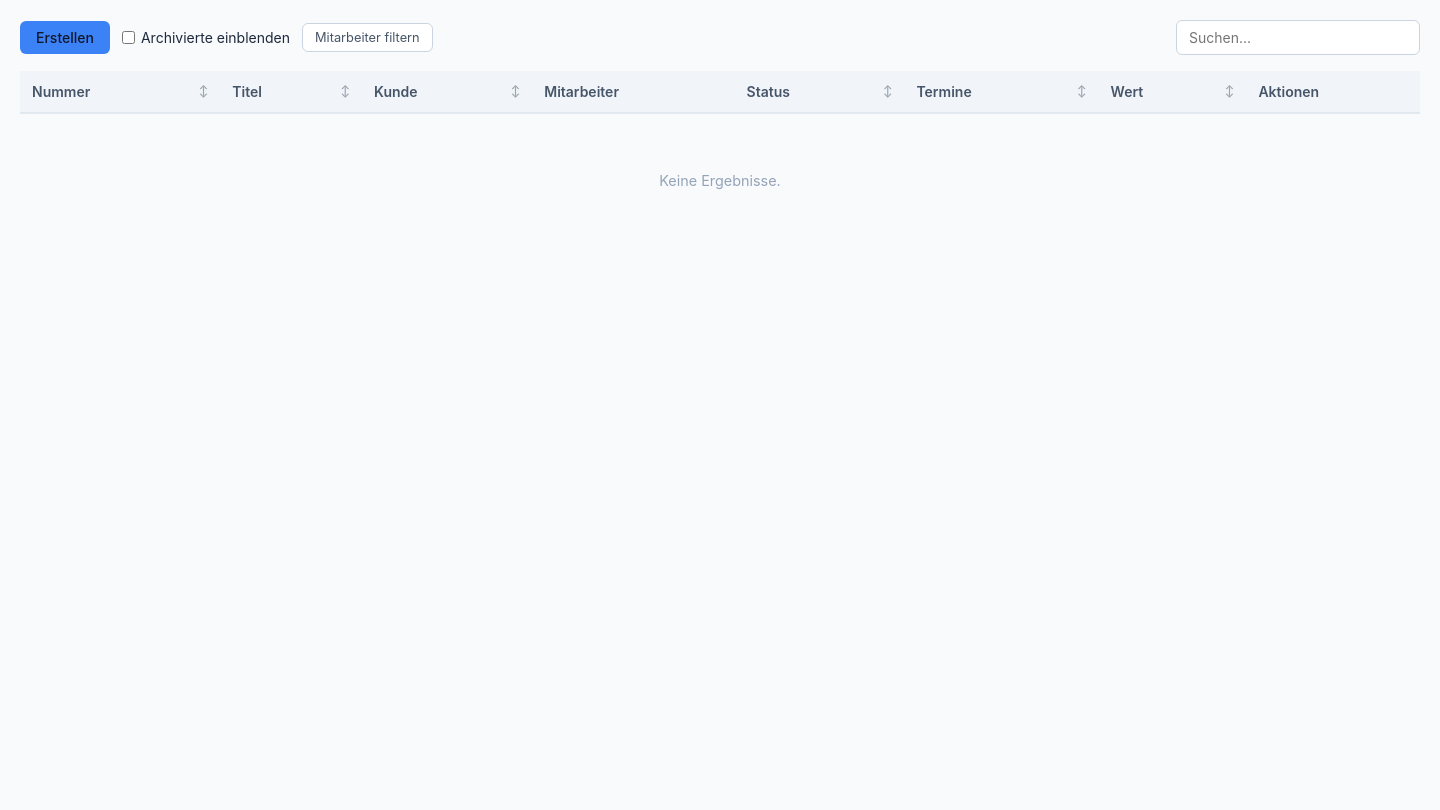
Test case: ProjectManagement — number preflight › clears the indicator when the number changes after blur
Step 1. Click the button with test id "project-create-button" → (65, 38), box [20, 21, 110, 54]
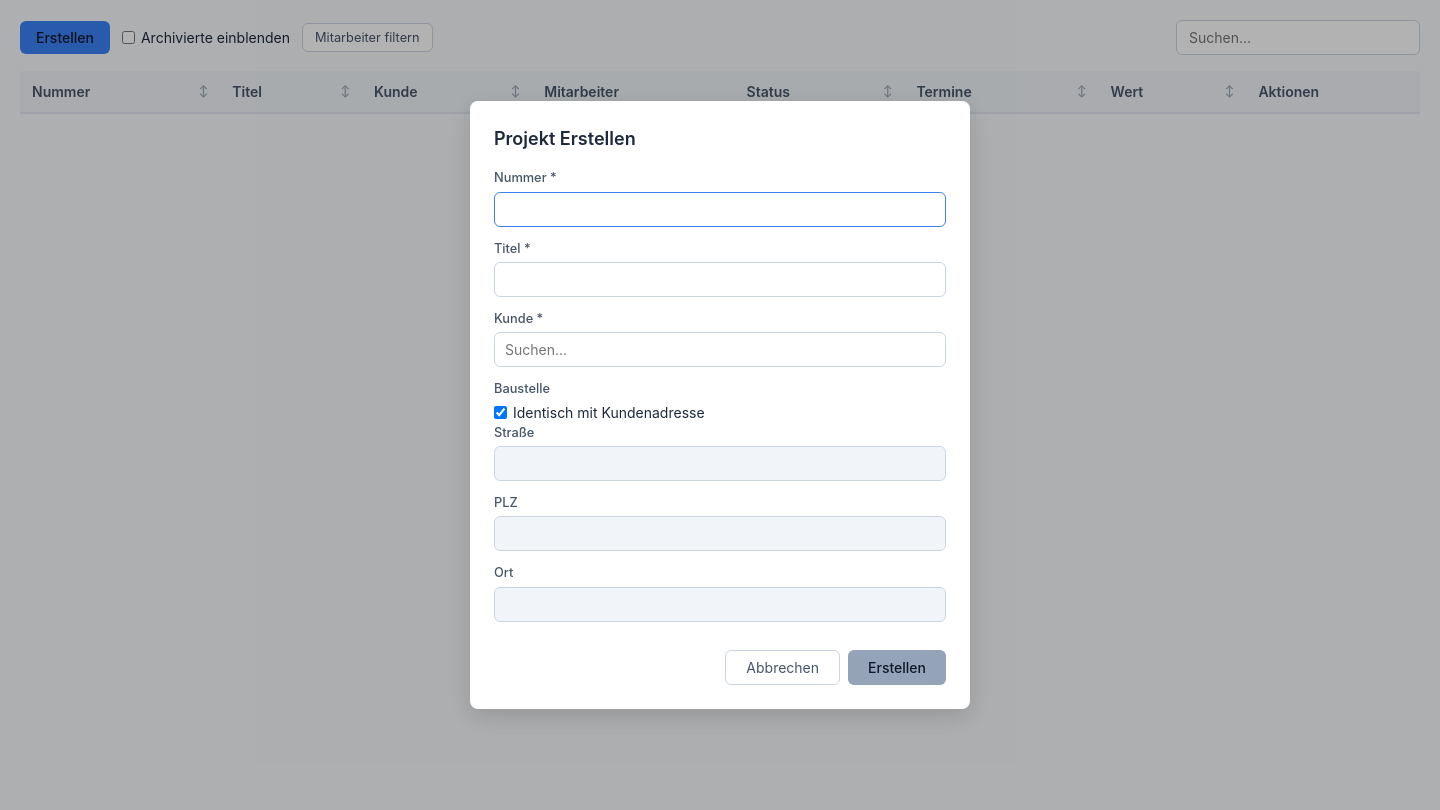
Step 2. Type "P-99" into the field with test id "project-number-input" → (720, 209), box [494, 192, 946, 226]
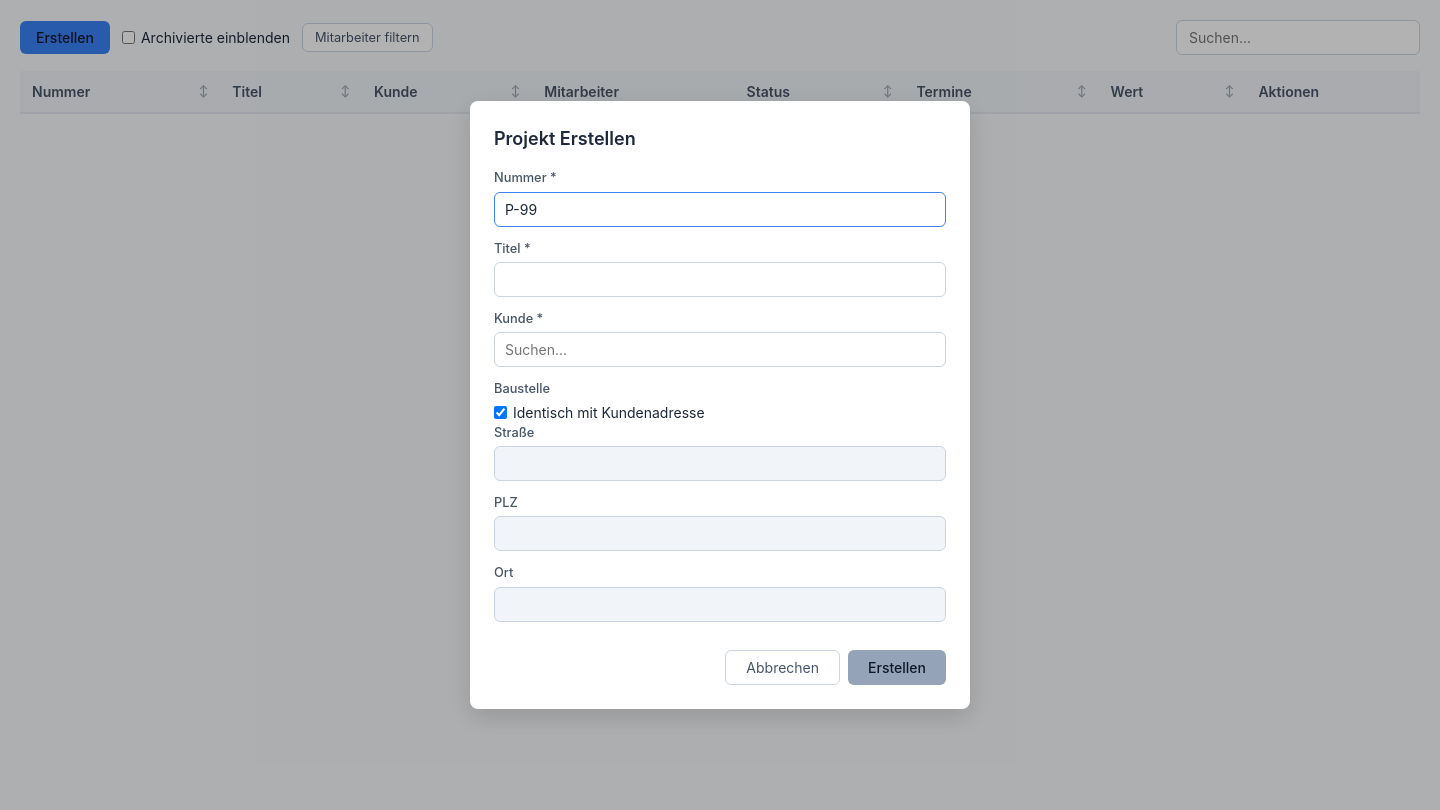
Step 3. Leave the field with test id "project-number-input", box [494, 192, 946, 226]
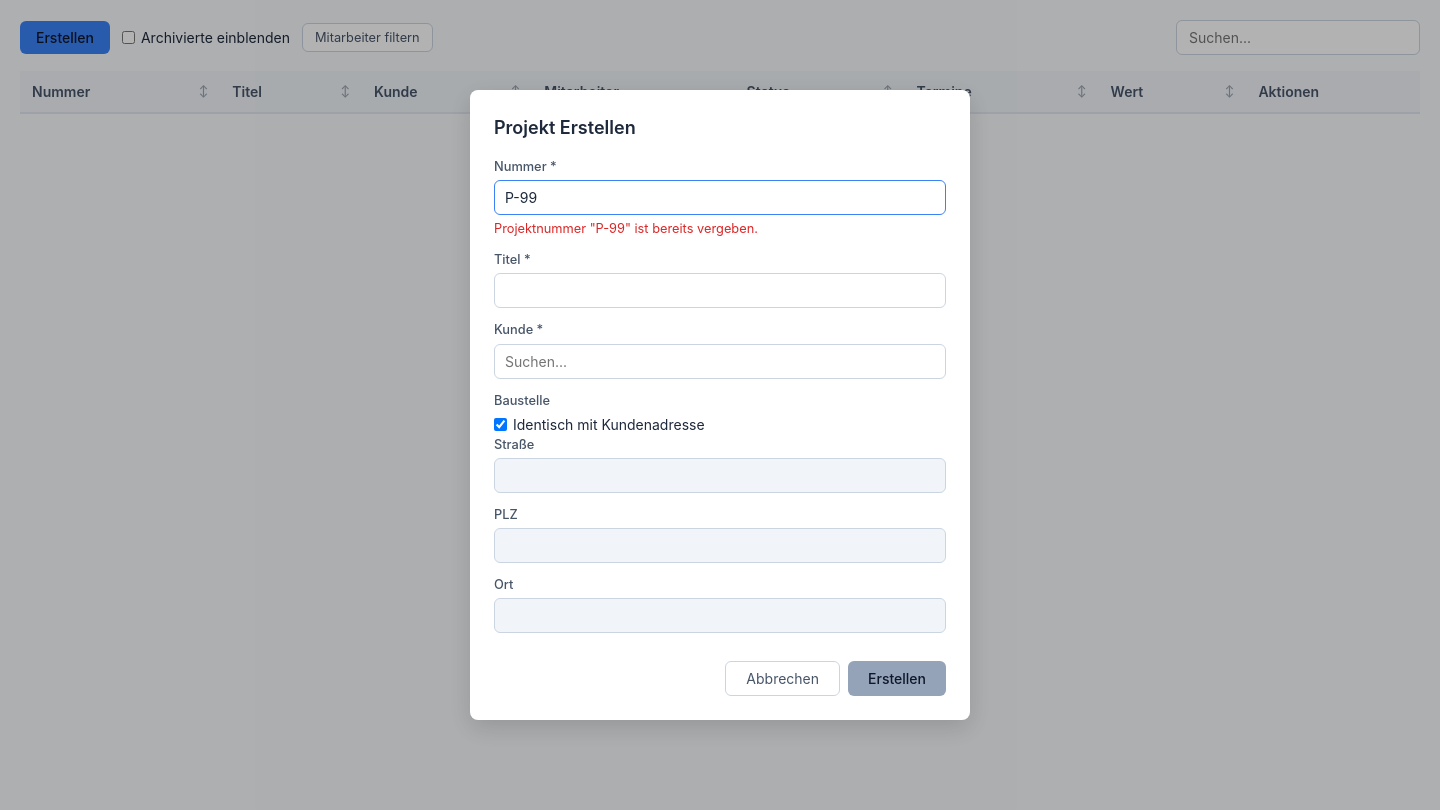
Expected: the message "Projektnummer \"P-99\" ist bereits vergeben." is shown, [494, 221, 758, 236]
// Any edit after blur clears the verdict until next blur.
Step 4. Type "X" into the field with test id "project-number-input" → (720, 197), box [494, 180, 946, 215]
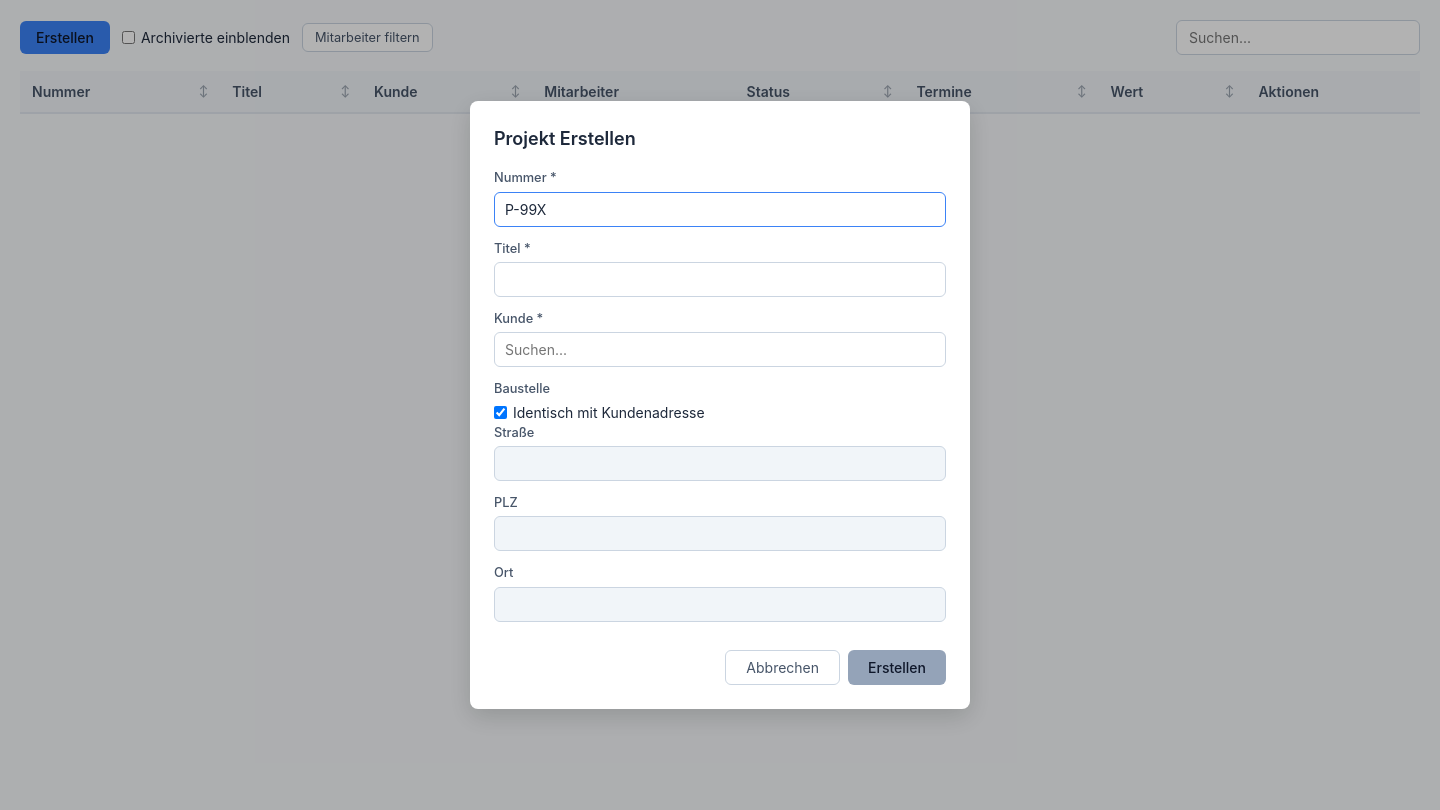
Expected: the message with test id "project-number-taken" is gone
